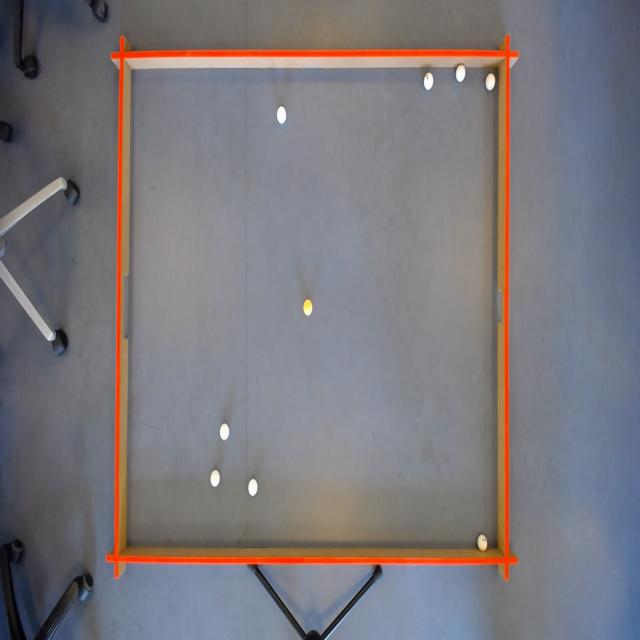orange_ball: (302, 297, 314, 318)
white_ball: (274, 104, 288, 128), (475, 531, 489, 555), (483, 70, 496, 94), (422, 72, 435, 95), (209, 467, 221, 491), (456, 63, 468, 84), (218, 422, 230, 442), (248, 476, 258, 498)
